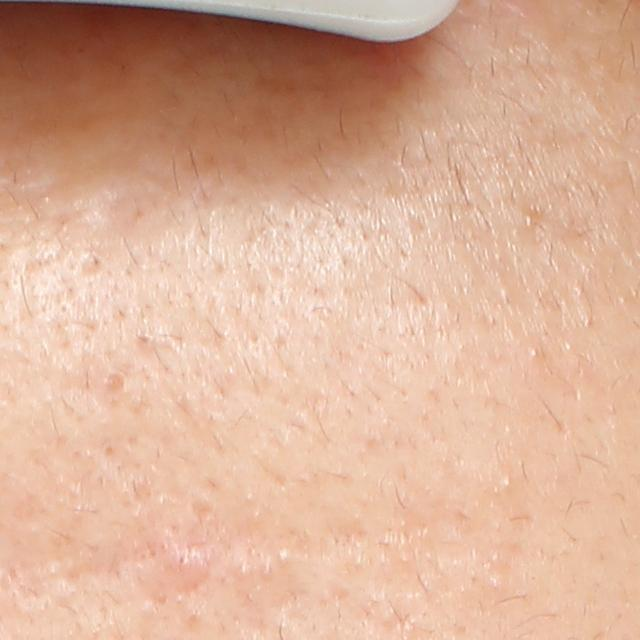comedo: (100, 371, 128, 399), (526, 343, 548, 363), (523, 210, 537, 227), (500, 476, 515, 491)
